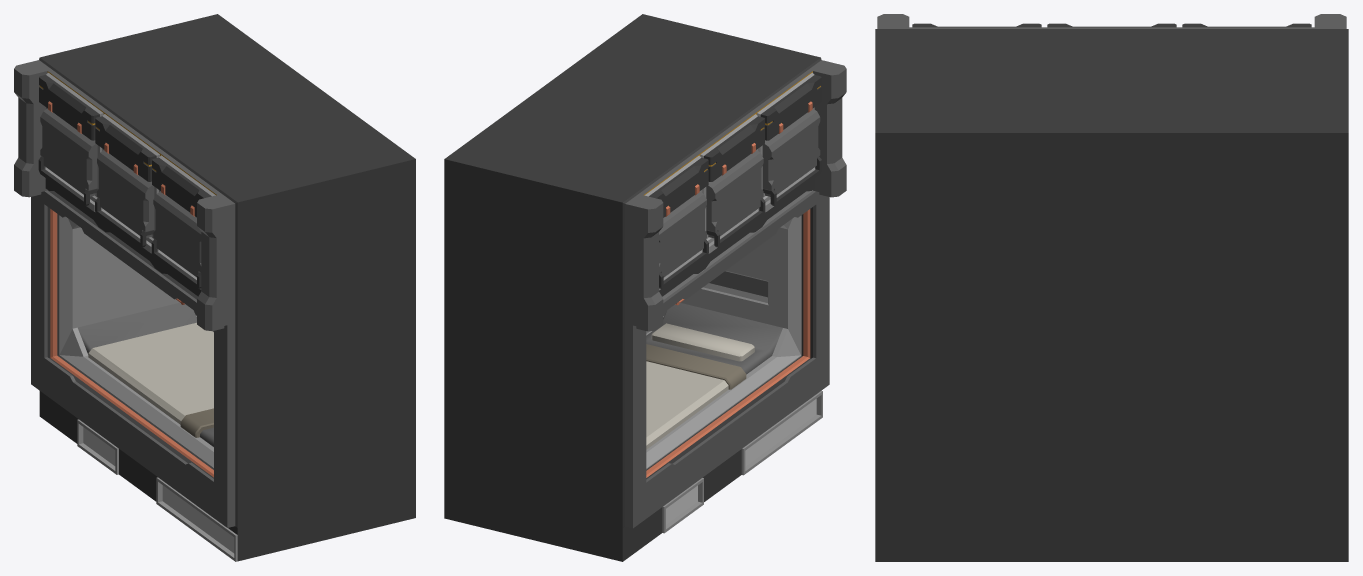
Rendered from Bed_01.FBX.
3 renders of one model, left to right at view 1: azimuth 30°, elevation 25°; view 2: azimuth 150°, elevation 25°; view 3: azimuth 270°, elevation 25°, orthographic. The views are drawn at different scales.
Parts seen in each view (by area): view 1: Bed_01_LOD0; view 2: Bed_01_LOD0; view 3: Bed_01_LOD0.
Part boxes in pixels (box(x1,y1,x2,y2)): Bed_01_LOD0: box(14, 14, 415, 561); Bed_01_LOD0: box(444, 14, 846, 561); Bed_01_LOD0: box(875, 14, 1348, 561).
Size of what is drawn, in the model's own units: 109 by 180 by 180.
